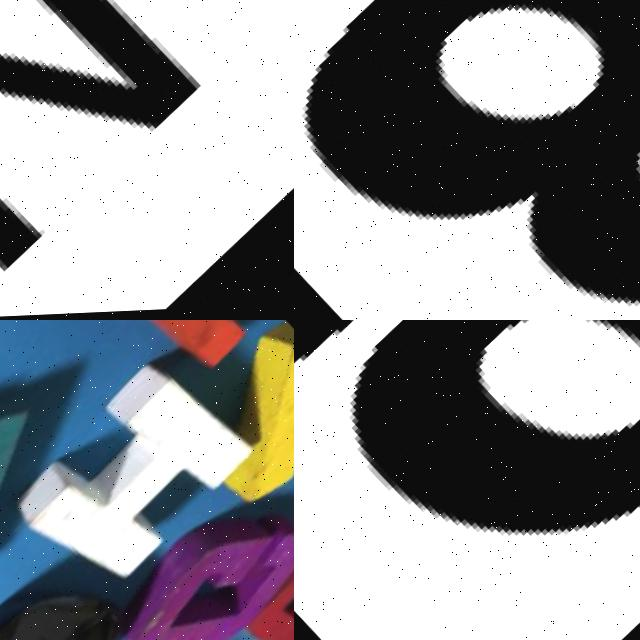8: (294, 0, 640, 320)
9: (294, 320, 640, 640)
G: (100, 462, 294, 640)
H: (0, 342, 268, 614)
M: (0, 338, 94, 640)
O: (228, 507, 294, 640)
W: (0, 0, 294, 320)
